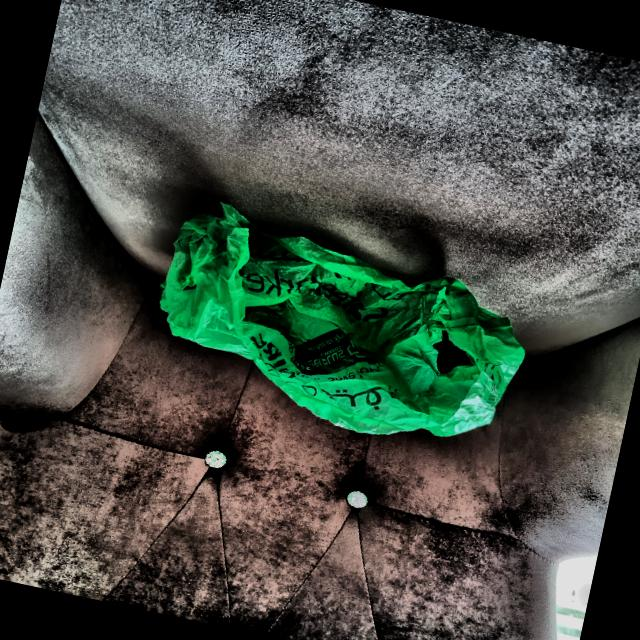plastic bag: (122, 179, 554, 476)
